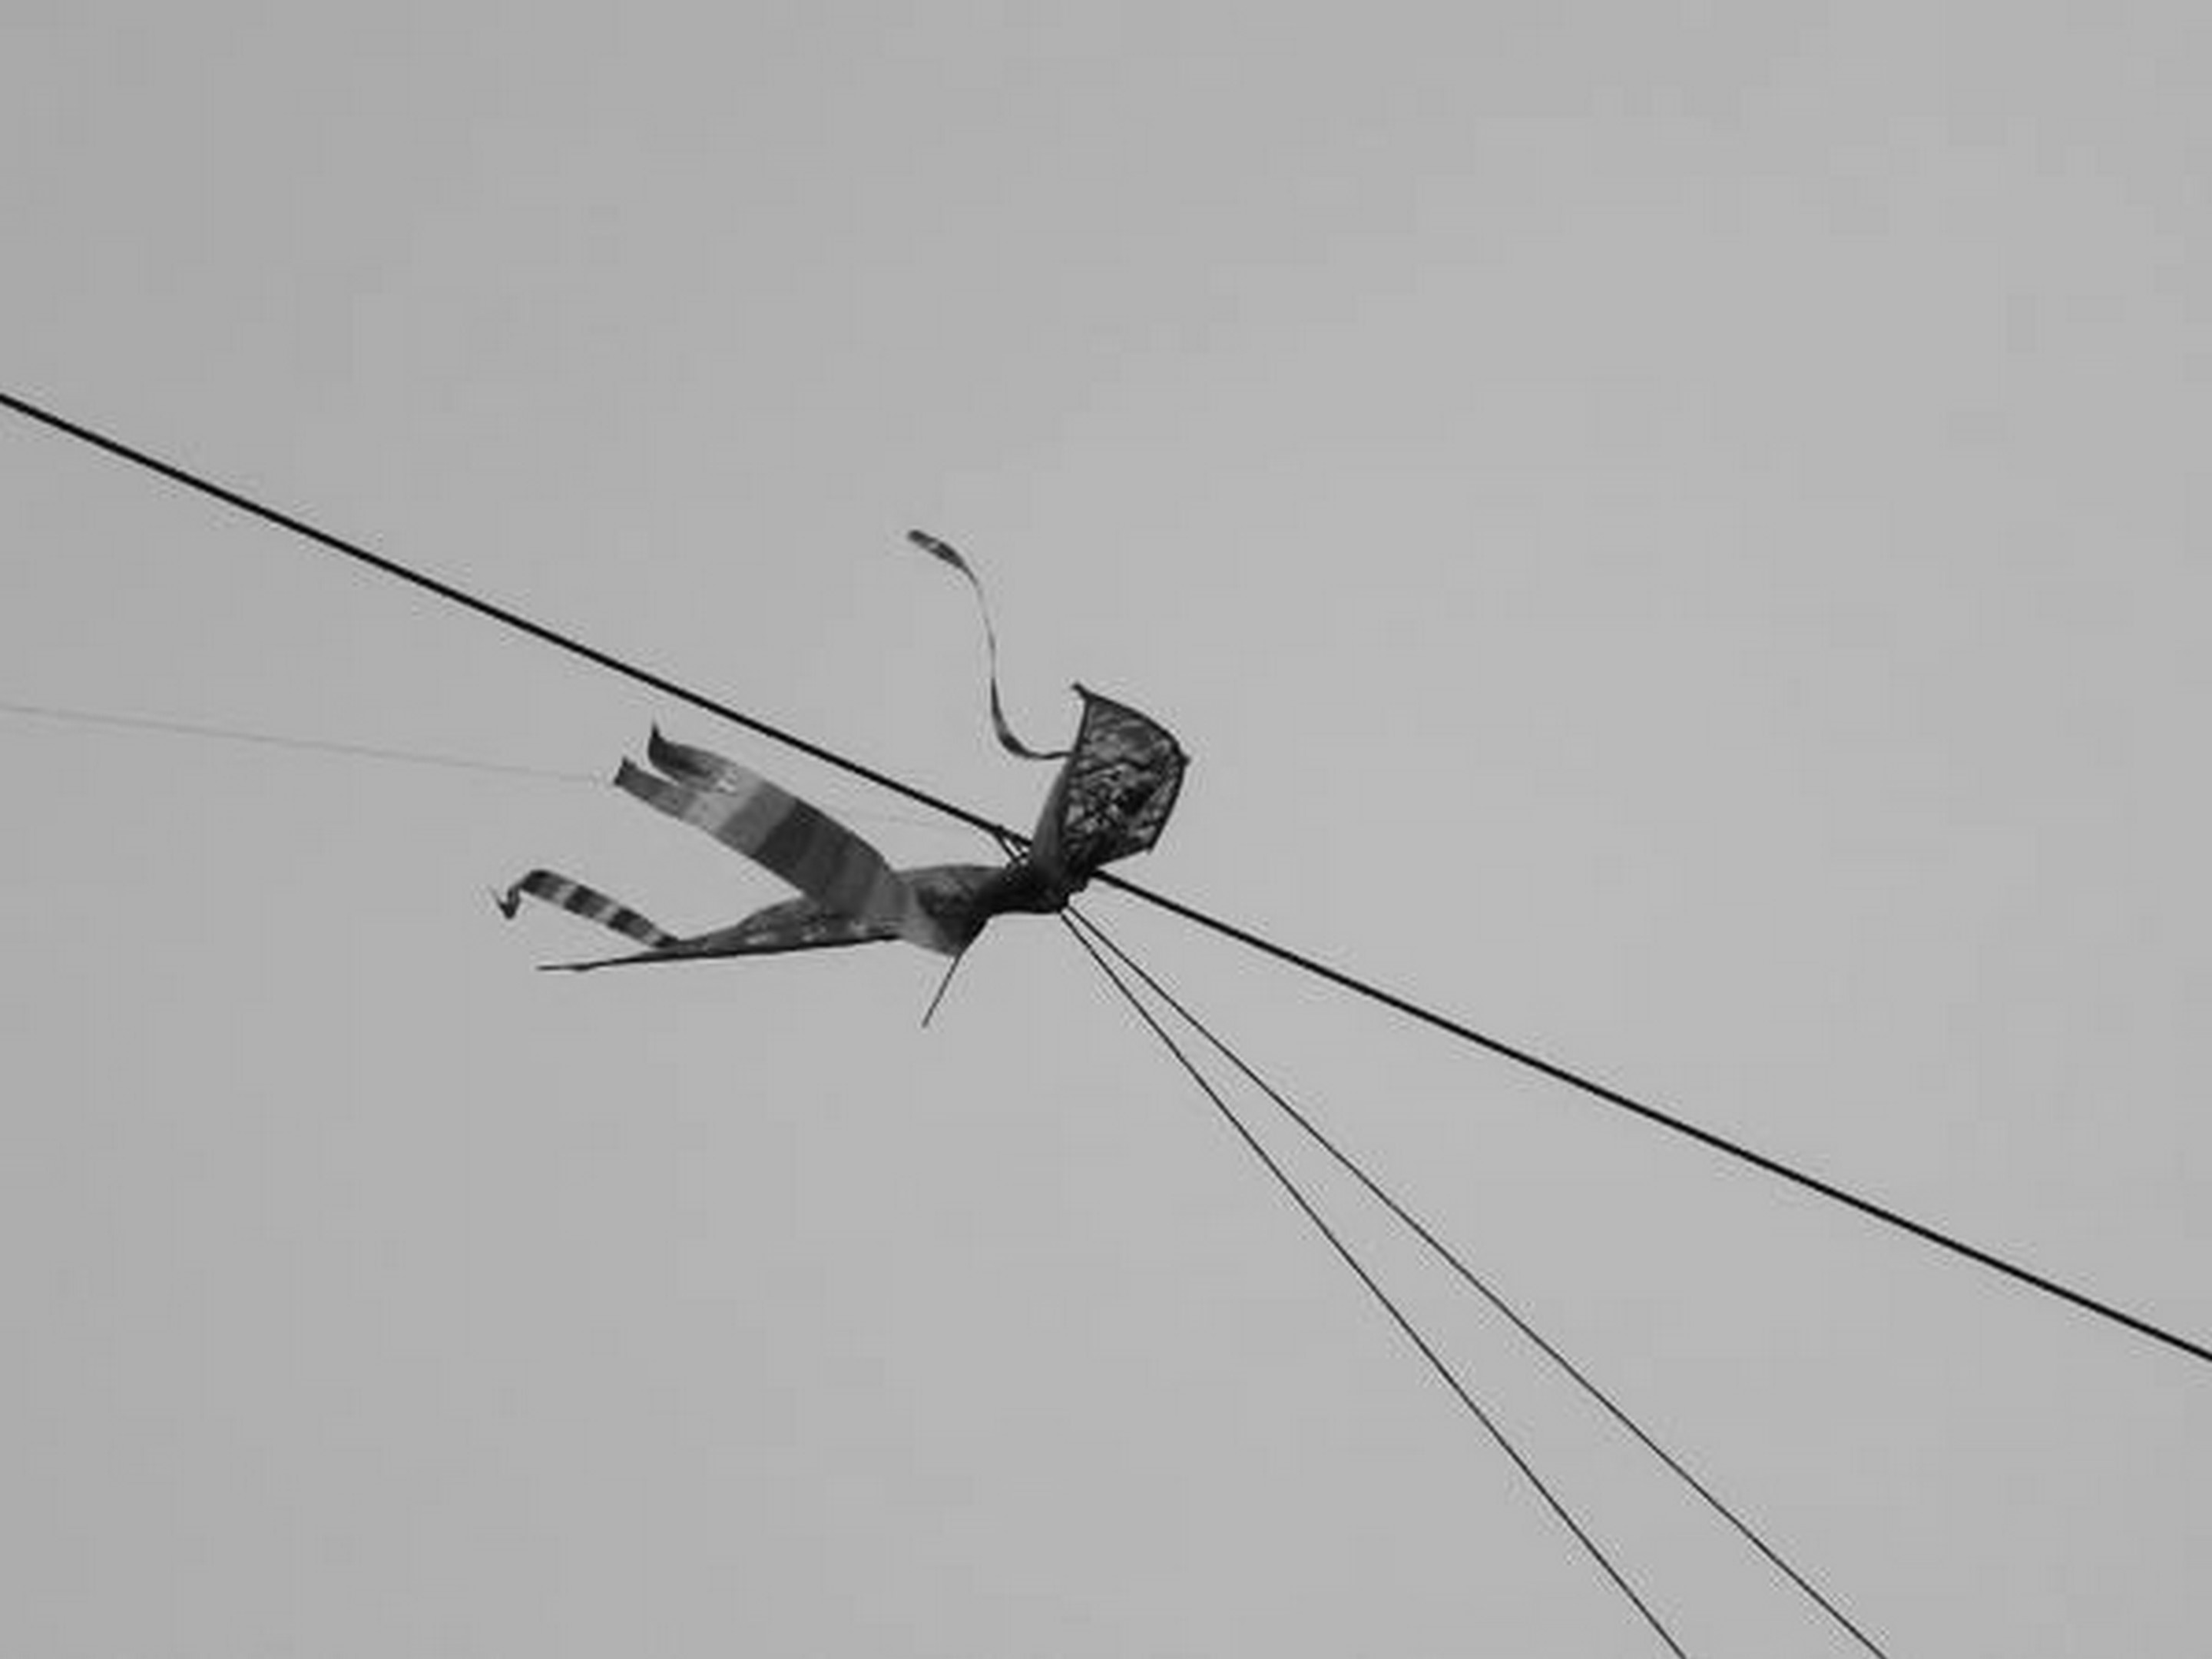wire foreign body: (488, 490, 1252, 1033)
